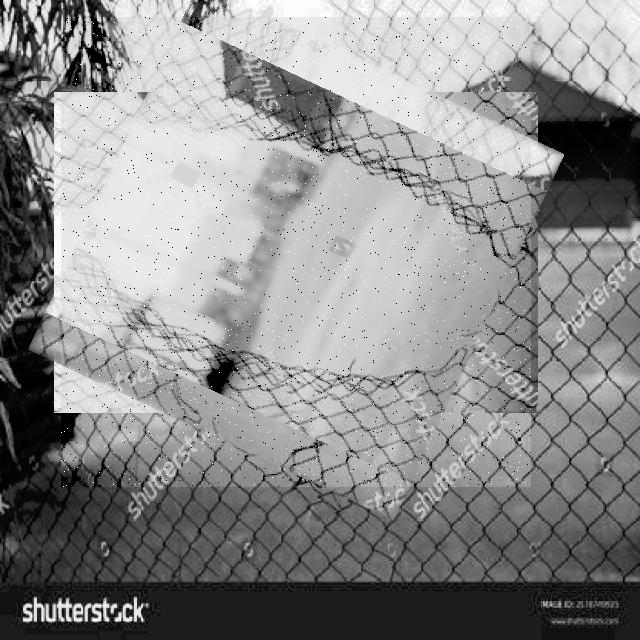anomaly-fence: (61, 17, 531, 487)
